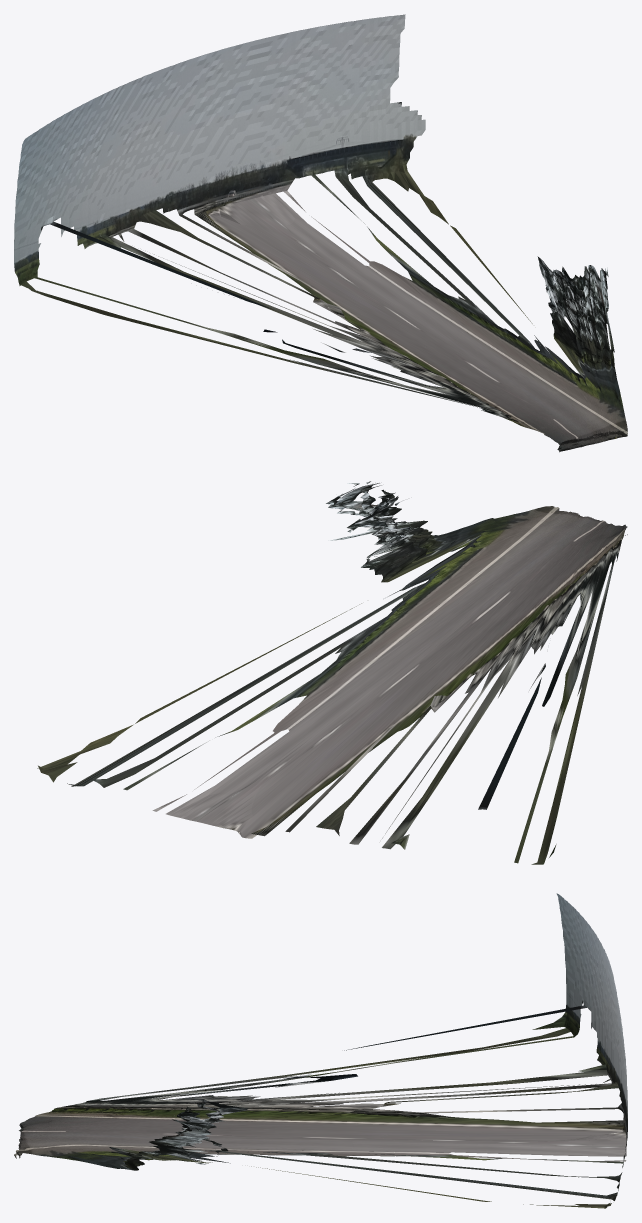
3 views of the same model, one above another, from view 1: azimuth 30°, elevation 25°; view 2: azimuth 150°, elevation 25°; view 3: azimuth 270°, elevation 25° (orthographic). The views are drawn at different scales.
Visible parts, largest first — view 1: defaultobject; view 2: defaultobject; view 3: defaultobject.
Part boxes in pixels (x1=…): defaultobject: x1=14, y1=14, x2=627, y2=452; defaultobject: x1=37, y1=481, x2=627, y2=864; defaultobject: x1=14, y1=893, x2=627, y2=1208.
Size of the model in its own units: 32.58 by 12.08 by 44.5.
1 material, 1 textured.
